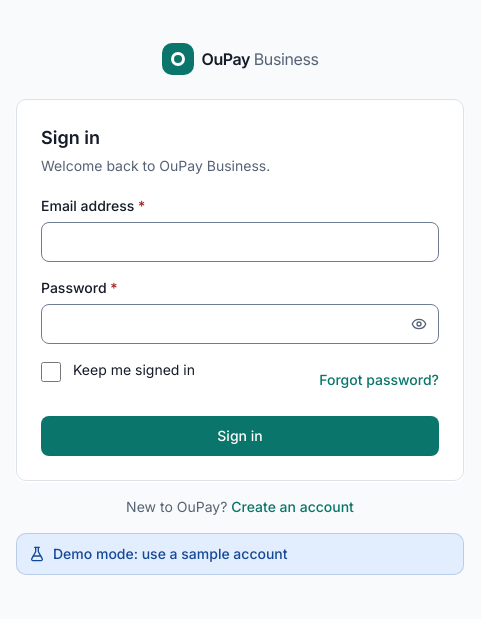
it: login › shows a clear error and stays on the page for wrong credentials
This screenshot has width=481, height=619.
In the field labelled "Email address *": (240, 242) [41,222,439,262], type "owner@oupay.demo"
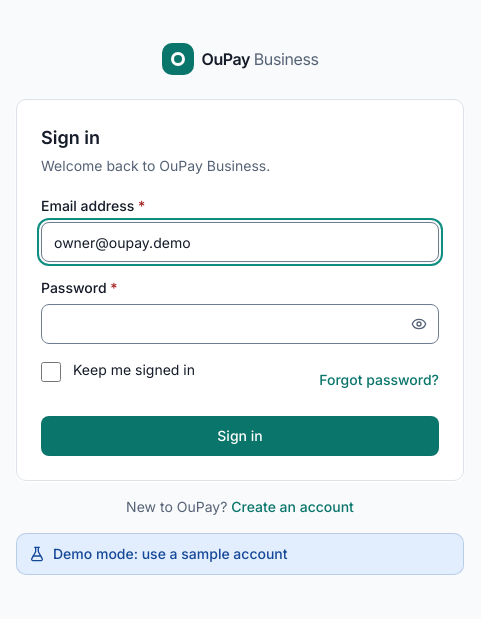
In the password field labelled "Password *": (240, 324) [41,304,439,344], type "wrong-password"
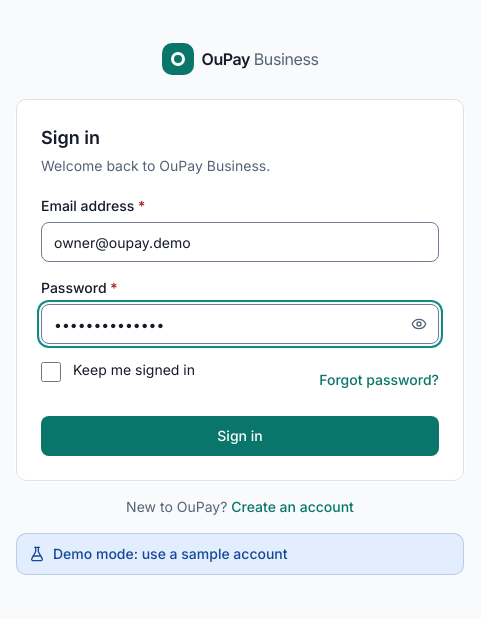
Click the button "Sign in": (240, 436) [41,416,439,456]
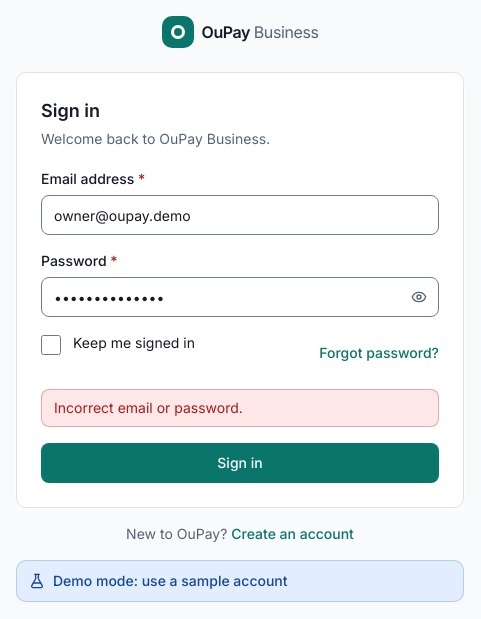
Check: the heading "Sign in" is shown, box [41,100,100,121]
Check: the message reads "Incorrect email or password.", box [54,399,243,416]
